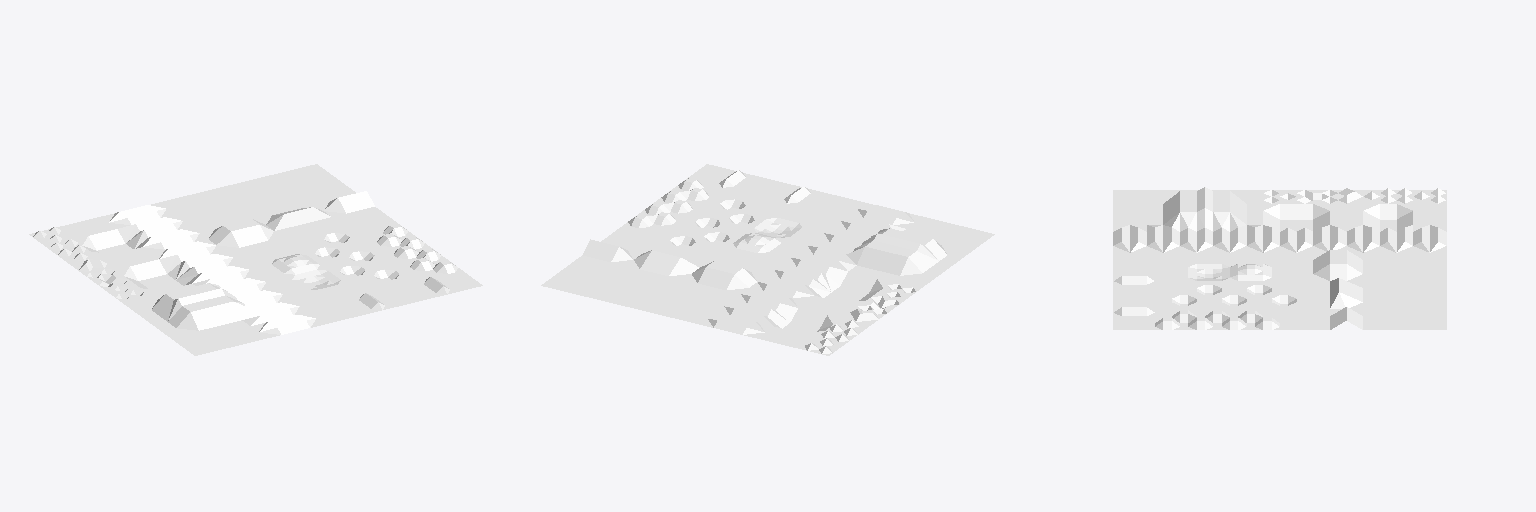
3 views of the same model, side by side, from view 1: azimuth 30°, elevation 25°; view 2: azimuth 150°, elevation 25°; view 3: azimuth 270°, elevation 25° (orthographic).
Visible parts, largest first — view 1: bumps_jump_LShape_000; view 2: bumps_jump_LShape_000; view 3: bumps_jump_LShape_000.
Part boxes in pixels (left/top/right/bottom): bumps_jump_LShape_000: left=29, top=164, right=482, bottom=355; bumps_jump_LShape_000: left=541, top=164, right=994, bottom=355; bumps_jump_LShape_000: left=1113, top=187, right=1446, bottom=329.
Bounding box in the file's own units: 100 × 8.49 × 100.